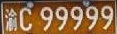C: (20, 8, 32, 31)
